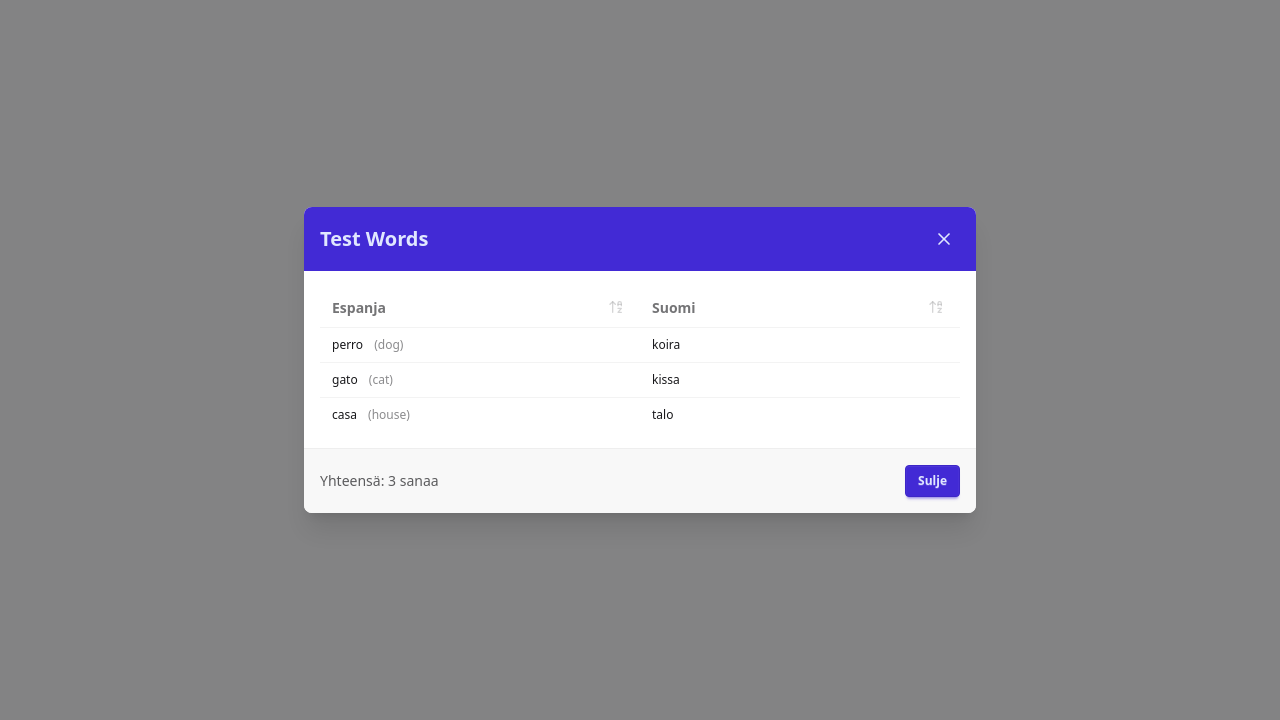
Scenario: VocabularyWordListDialog › should sort by Spanish column when clicked
This screenshot has width=1280, height=720.
Click the 1st button named "Järjestä Z-A": (616, 307) [604,295,628,319]
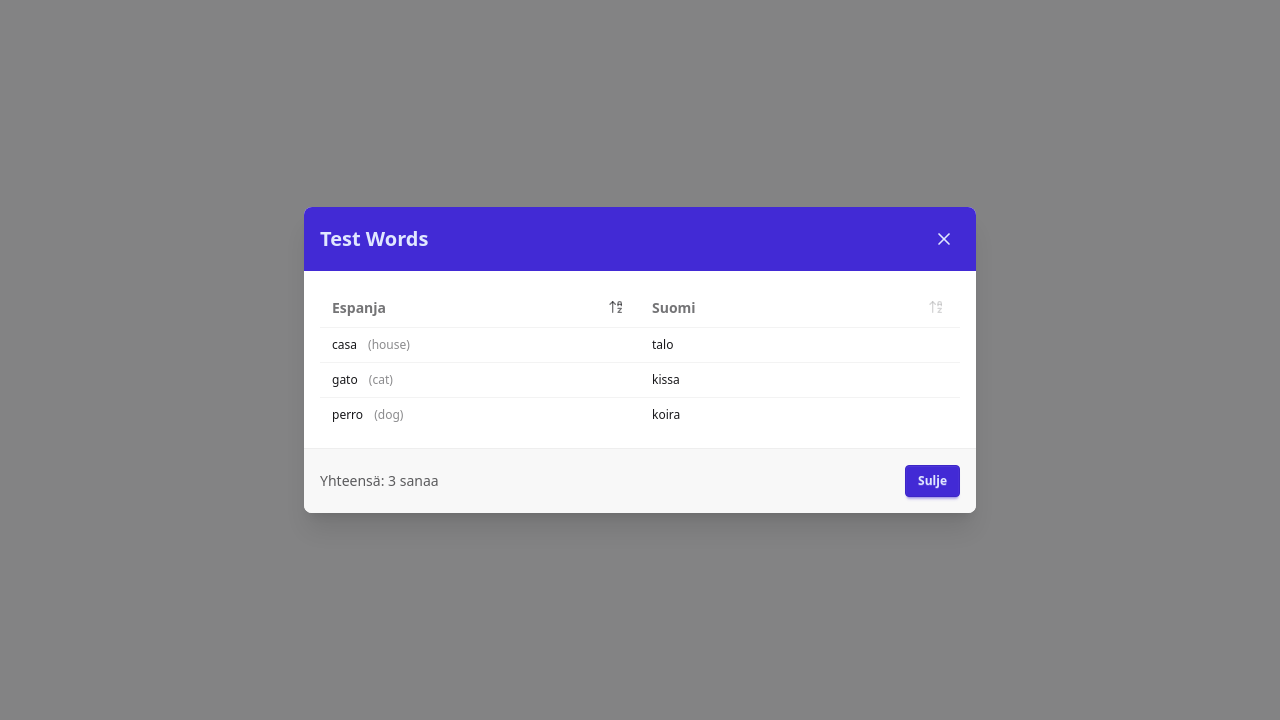
Expected: the row "gato (cat) kissa" is shown, [320,363,960,398]
Expected: the row "casa (house) talo" is shown, [320,328,960,363]
Expected: the row "perro (dog) koira" is shown, [320,398,960,432]
